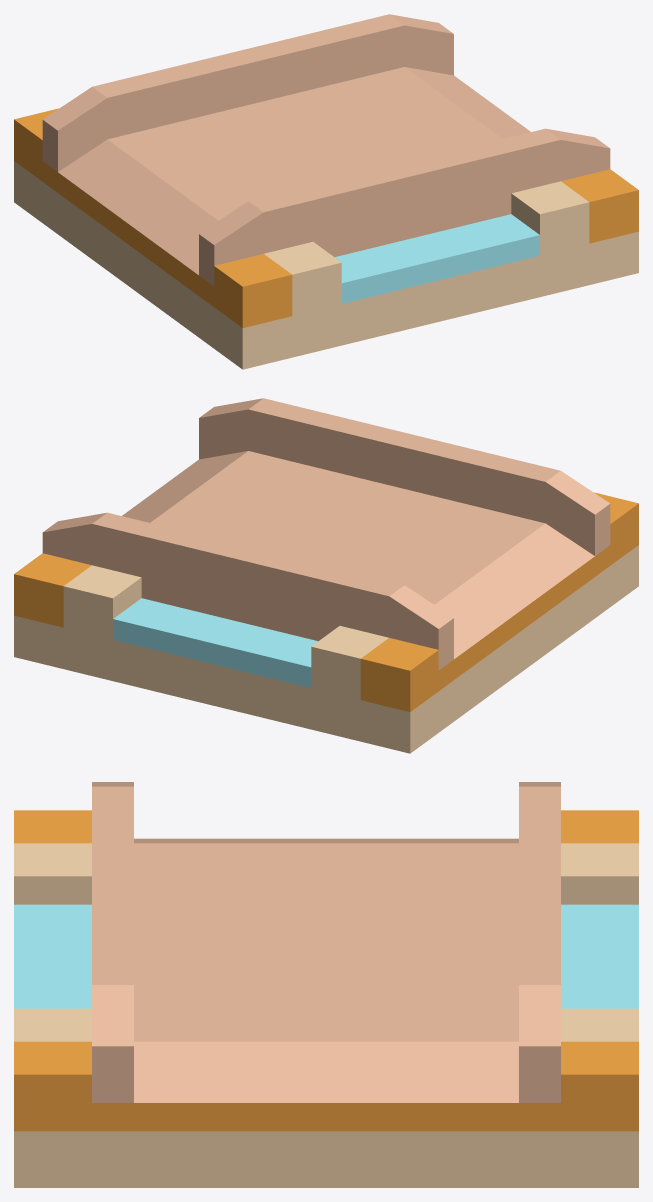
File: autumn_river_bridge.fbx
3 views of the same model, one above another, from view 1: azimuth 30°, elevation 25°; view 2: azimuth 150°, elevation 25°; view 3: azimuth 270°, elevation 25° (orthographic). The views are drawn at different scales.
Parts seen in each view (by area): view 1: tile_riverBridge; view 2: tile_riverBridge; view 3: tile_riverBridge.
Part boxes in pixels (<box>): tile_riverBridge: <box>14,14,638,369</box>; tile_riverBridge: <box>14,398,638,753</box>; tile_riverBridge: <box>14,782,638,1187</box>.
Bounding box in the file's own units: 100 × 30 × 100.
